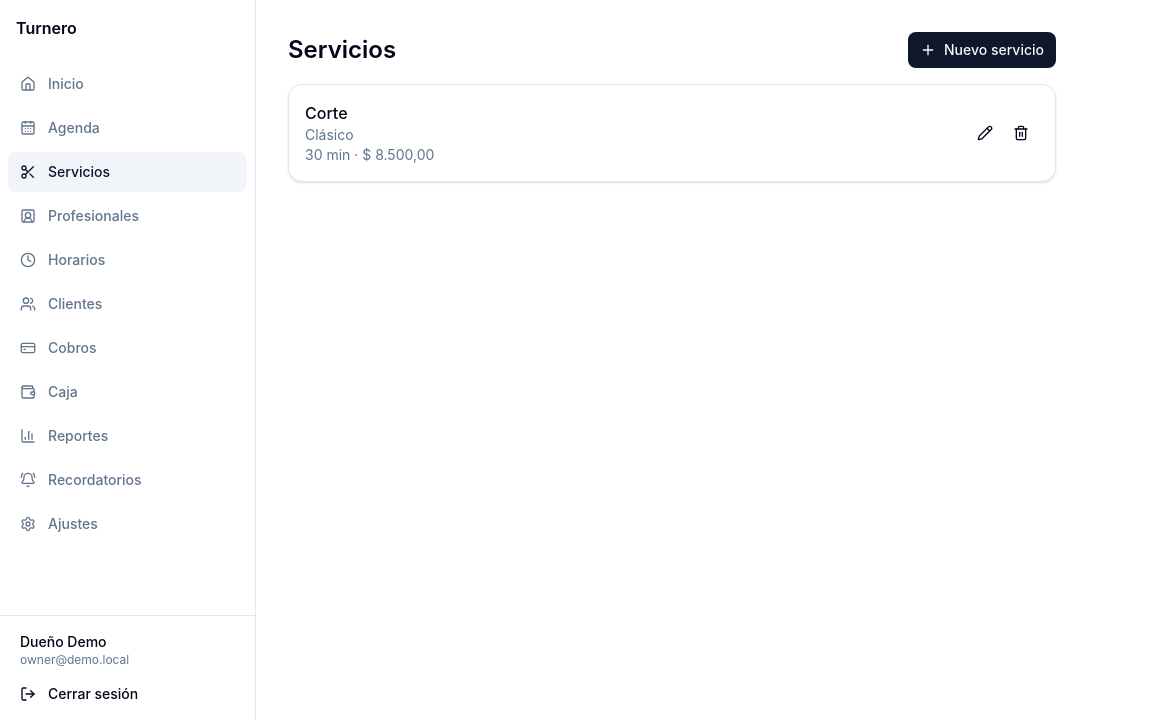
Scenario: services page › shows the localized API error
Click the button named "Editar Corte" at coordinates (985, 133), box [967,115,1003,151]
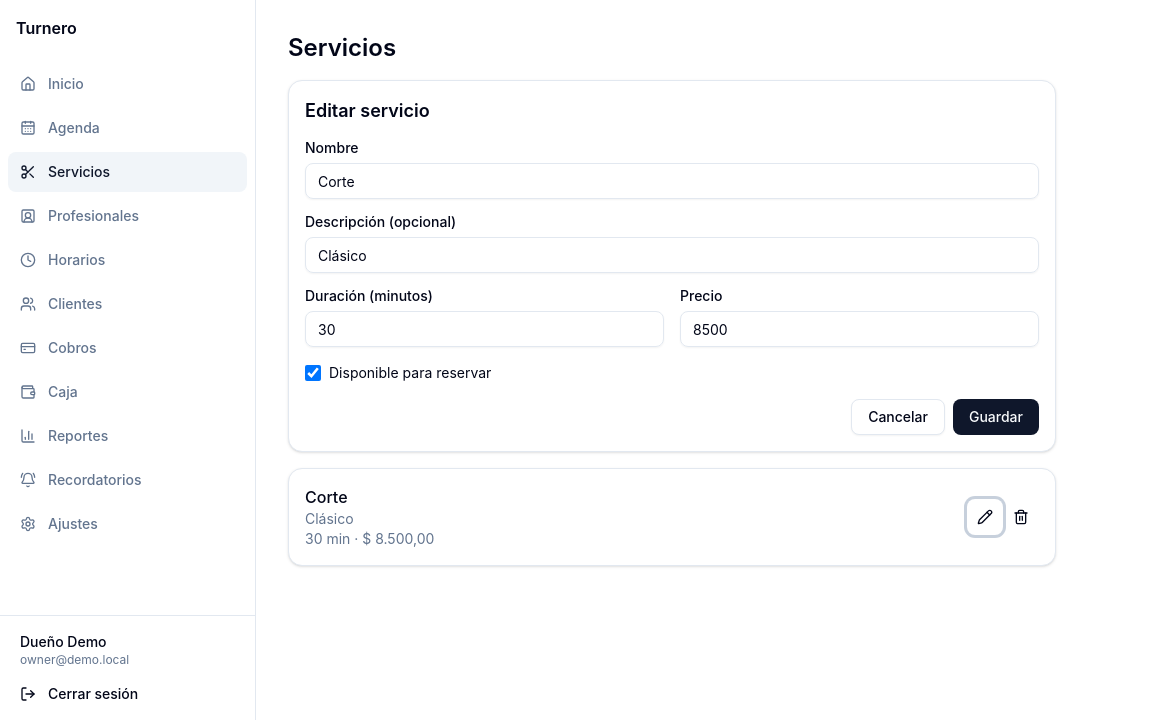
Click the button "Guardar" at coordinates (996, 417), box [953,399,1039,435]
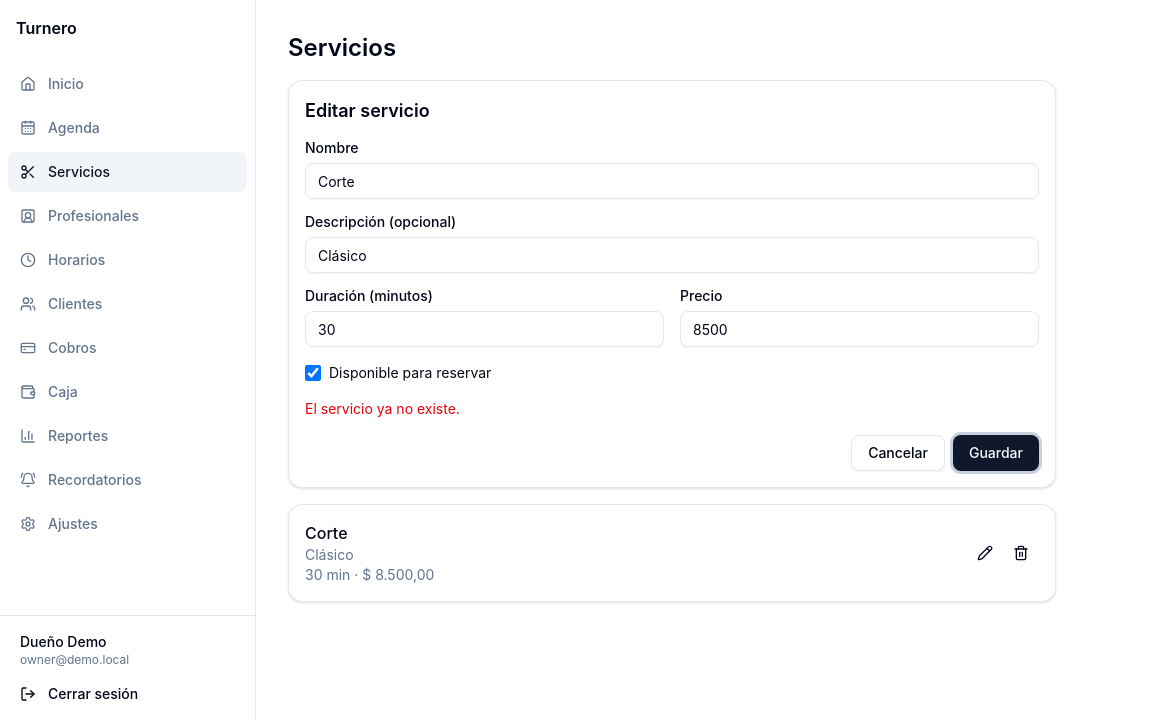
Result: the message reads "El servicio ya no existe." at [305,400,460,417]
